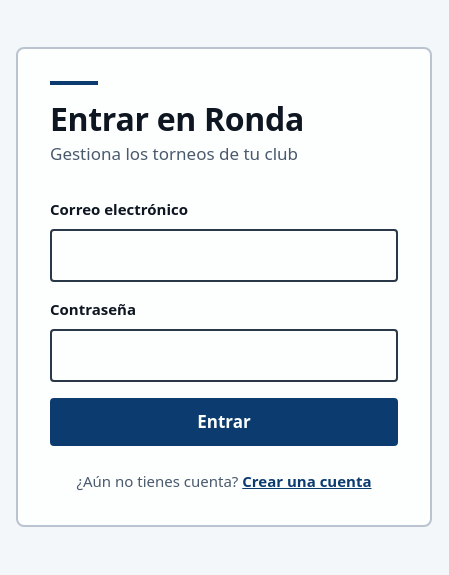
Test: SignInRoute › shows a translated, actionable message when credentials are rejected
The image size is (449, 575).
Type "club@example.es" into the field labelled "Correo electrónico" at x=224, y=255, box 50,229 -> 398,282
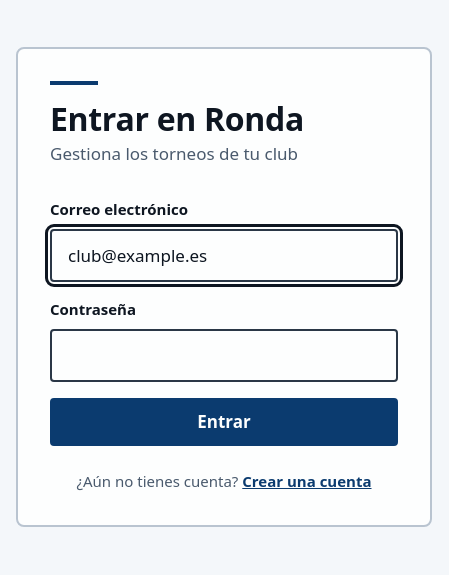
Type "wrong-password" into the password field labelled "Contraseña" at x=224, y=355, box 50,329 -> 398,382
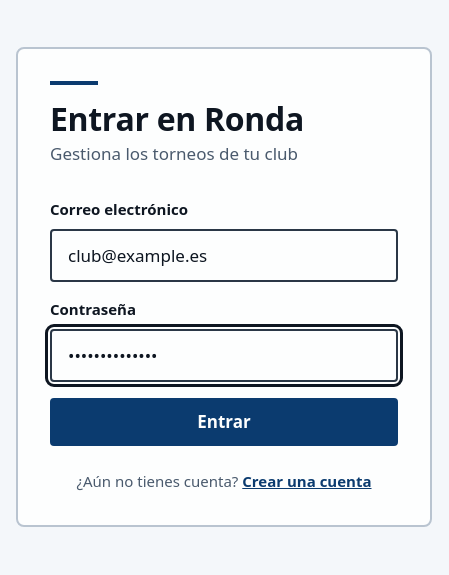
Click the button "Entrar" at x=224, y=422, box 50,398 -> 398,446
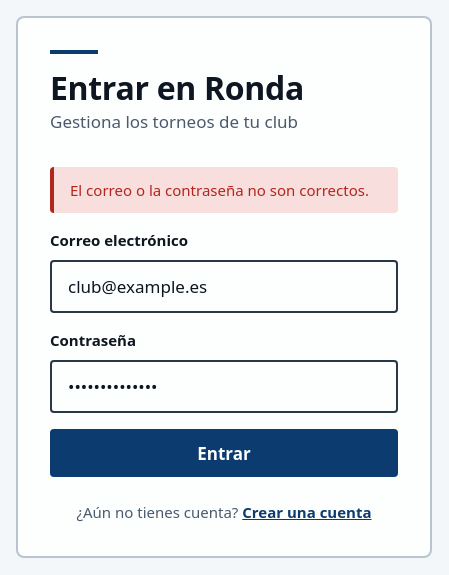
expect the message reads "El correo o la contraseña no son correctos.": met, box 70,180 -> 369,200
